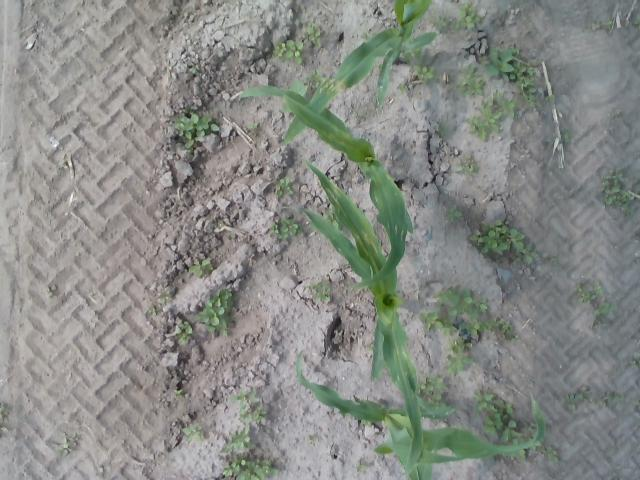Maize: (302, 157, 424, 478), (236, 77, 415, 286), (296, 350, 548, 480), (282, 0, 436, 144)
Weeds: (418, 282, 514, 378), (470, 218, 538, 262), (474, 388, 528, 442), (221, 429, 275, 480), (464, 92, 516, 142), (573, 278, 617, 332), (174, 105, 220, 153), (194, 289, 235, 338), (604, 166, 640, 215), (514, 47, 540, 107), (229, 390, 268, 426), (456, 62, 486, 98), (484, 47, 514, 82), (566, 382, 592, 416), (456, 148, 484, 178), (456, 3, 484, 32), (274, 38, 304, 64), (268, 216, 300, 240), (421, 376, 448, 404), (182, 420, 208, 446), (51, 435, 78, 458), (188, 257, 216, 279), (302, 24, 324, 49), (411, 64, 436, 86), (309, 280, 331, 304), (600, 390, 622, 412), (274, 175, 294, 198), (176, 319, 193, 345), (304, 70, 326, 89), (0, 403, 12, 435), (542, 446, 560, 462), (446, 206, 462, 224), (405, 50, 425, 64), (588, 20, 616, 30), (436, 13, 450, 32), (356, 460, 374, 474), (630, 348, 640, 372), (562, 125, 574, 144), (394, 82, 412, 94), (436, 120, 448, 138), (156, 291, 174, 302), (608, 110, 622, 124), (544, 93, 559, 105), (248, 119, 261, 132), (46, 285, 58, 299), (150, 304, 160, 318), (174, 387, 187, 397), (58, 160, 70, 170), (309, 432, 320, 442), (362, 30, 372, 41), (226, 232, 236, 243), (213, 220, 225, 229), (633, 14, 640, 26), (518, 450, 528, 458), (188, 66, 198, 74), (548, 257, 558, 264)
